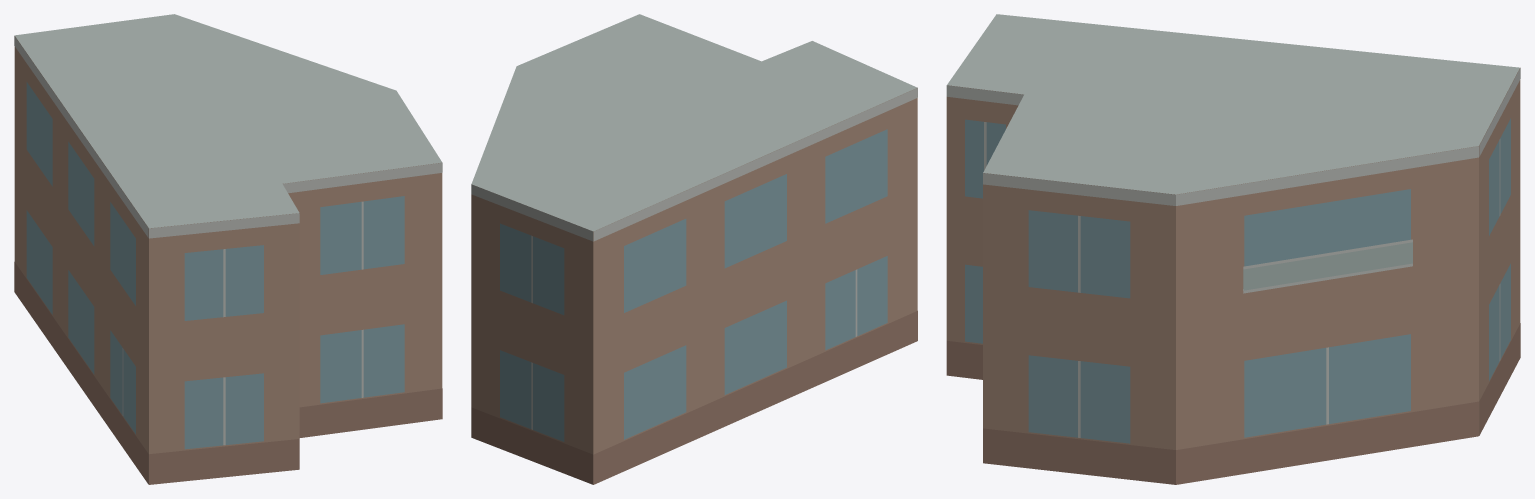
The model's file is survey-upis-32799015.glb.
3 renders of one model, left to right at view 1: azimuth 30°, elevation 25°; view 2: azimuth 150°, elevation 25°; view 3: azimuth 270°, elevation 25°, orthographic. The views are drawn at different scales.
Visible parts, largest first — view 1: survey-upis-32799015.tmp; view 2: survey-upis-32799015.tmp; view 3: survey-upis-32799015.tmp.
Boxes of the visible parts, bbox=[...] form: survey-upis-32799015.tmp: bbox=[14, 14, 442, 484]; survey-upis-32799015.tmp: bbox=[471, 14, 917, 484]; survey-upis-32799015.tmp: bbox=[946, 14, 1520, 484].
Bounding box in the file's own units: 8.15 × 6.1 × 10.93.
